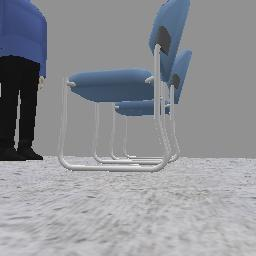scaun: (58, 0, 189, 172), (115, 100, 152, 159), (167, 50, 191, 103), (110, 114, 115, 160), (174, 136, 179, 159), (165, 101, 169, 114)
